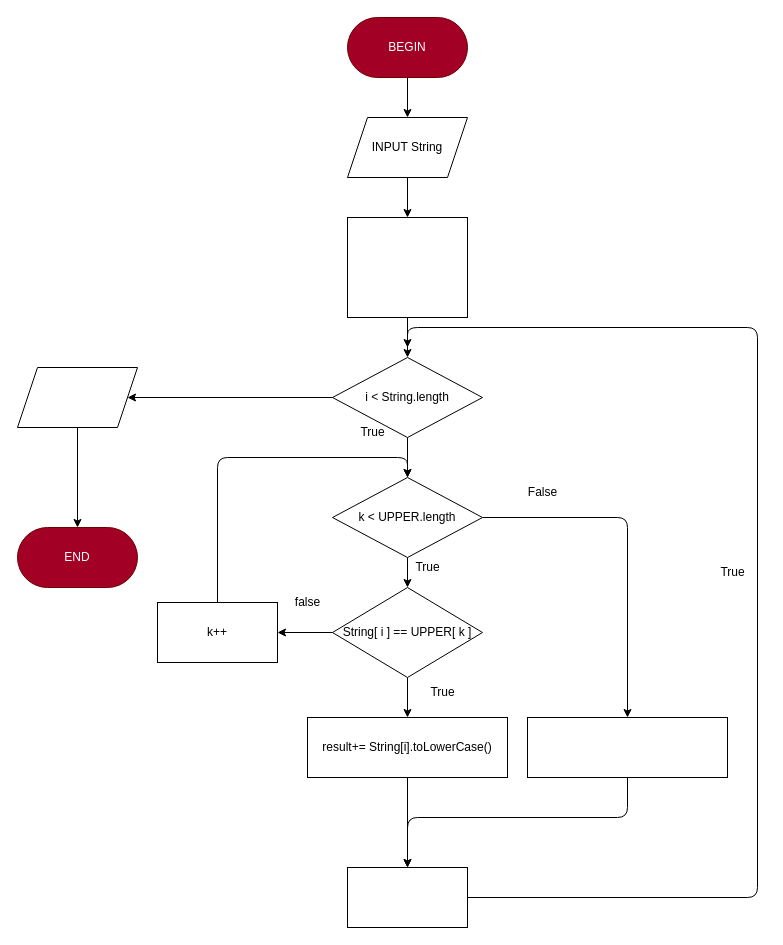
Image size: 783x945. Some labels were removed from this diagram. Each missing label, with the box of its shape:
Display result: (16, 366, 138, 428)
i++: (346, 866, 468, 928)
result+= String[i].toUpperCase(): (526, 716, 728, 778)
UPPER = "ABC...Z" k = 0 i = 0 result = " " isUpper = false: (346, 216, 468, 318)
